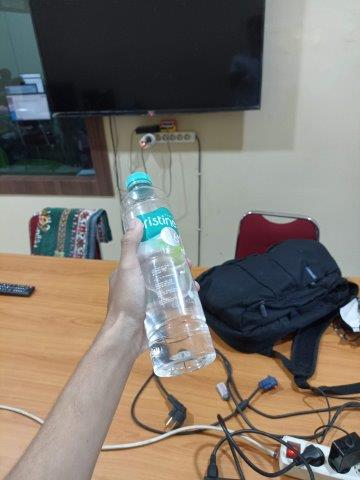botolplastik: (121, 172, 216, 376)
